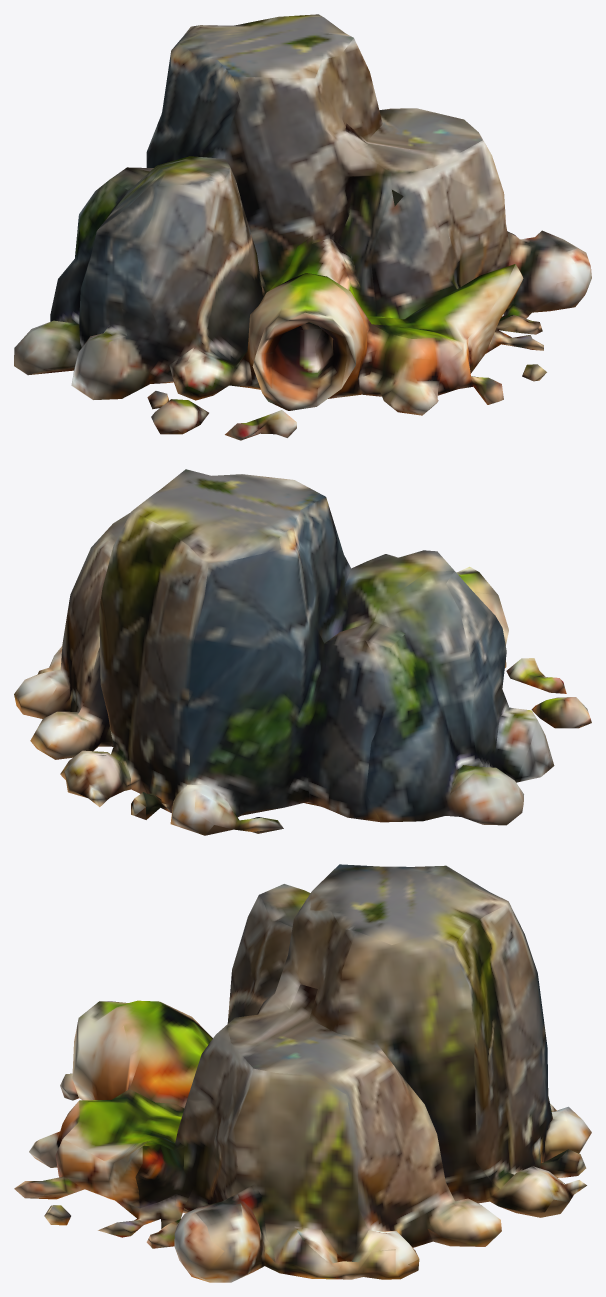
The model's file is SummerDecor_BossRoom_BeachRubble.fbx.
The picture shows the model from 3 angles, top to bottom: view 1: azimuth 30°, elevation 25°; view 2: azimuth 150°, elevation 25°; view 3: azimuth 270°, elevation 25°; orthographic projection. The views are drawn at different scales.
Parts seen in each view (by area): view 1: SummerDecor_BossRoom_BeachRubble_Mesh; view 2: SummerDecor_BossRoom_BeachRubble_Mesh; view 3: SummerDecor_BossRoom_BeachRubble_Mesh.
Part boxes in pixels (<box>): SummerDecor_BossRoom_BeachRubble_Mesh: <box>14,14,591,440</box>; SummerDecor_BossRoom_BeachRubble_Mesh: <box>14,469,591,835</box>; SummerDecor_BossRoom_BeachRubble_Mesh: <box>14,864,591,1282</box>.
Bounding box in the file's own units: 6 × 3 × 5.55.
1 material, 1 textured.
